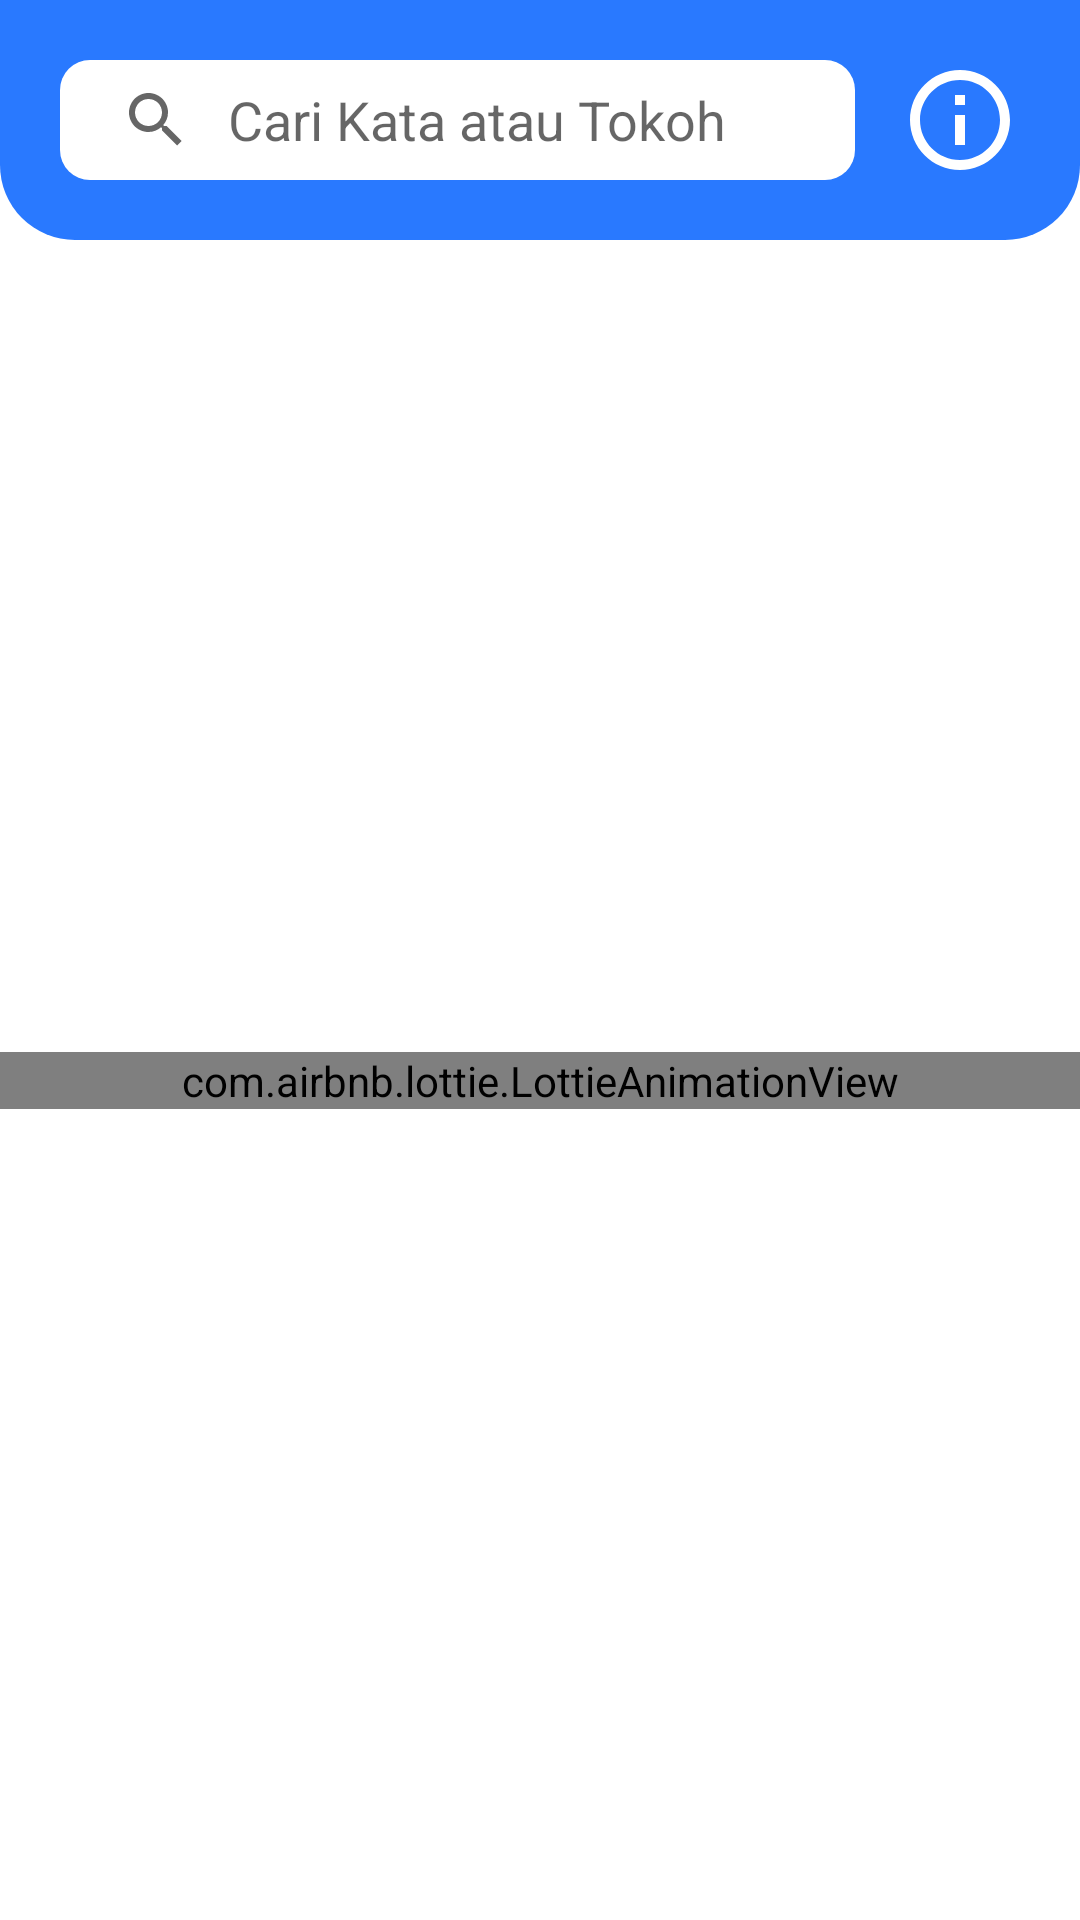

Icon bounding boxes for this 1080w x 1920h phone screenshot, format (x1, y1, x2, y2):
info: (910, 70, 1010, 170)
